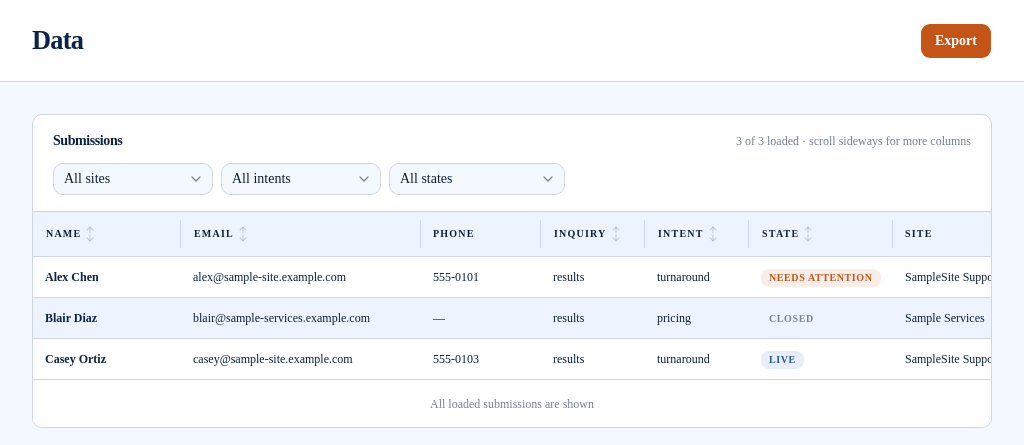
Scenario: data console filters › state filter keeps only queued rows
Expected: the text "Alex Chen" is shown, [33, 256, 181, 298]
Expected: the text "Blair Diaz" is shown, [33, 298, 181, 338]
Click the dropdown labelled "state" at (477, 179), box [389, 163, 565, 195]
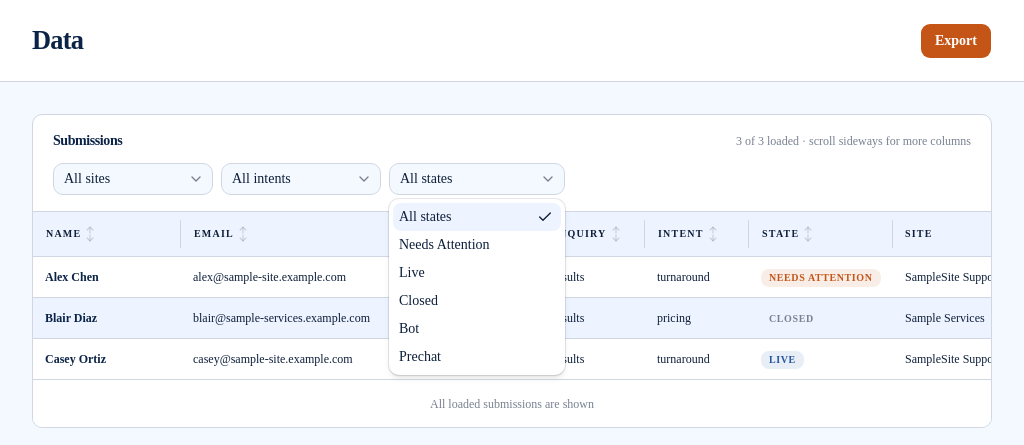
Click the option "Needs Attention" at (444, 244), box [399, 237, 490, 252]
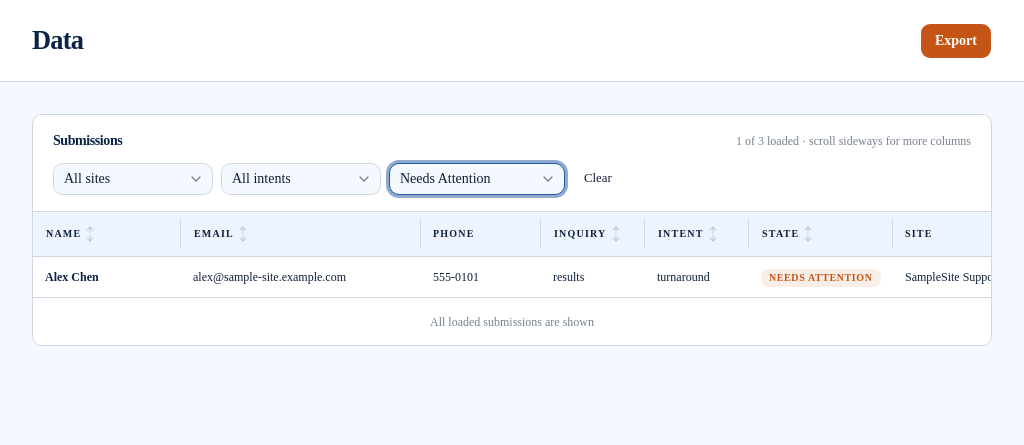
Now the text "Blair Diaz" is gone
Now the text "Casey Ortiz" is gone
Now the text "1 of 3 loaded" is shown, box [736, 133, 971, 149]
